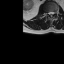CCS_normal: (50, 10, 52, 18)
LFS_normal: (54, 10, 56, 14)
LLS_normal: (52, 10, 54, 16)
RFS_stenosis: (46, 10, 48, 16)
RLS_normal: (48, 10, 50, 16)
